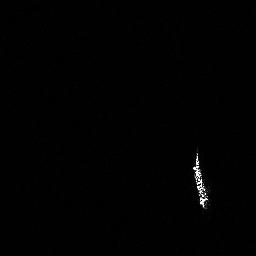ship: (188, 147, 213, 212)
